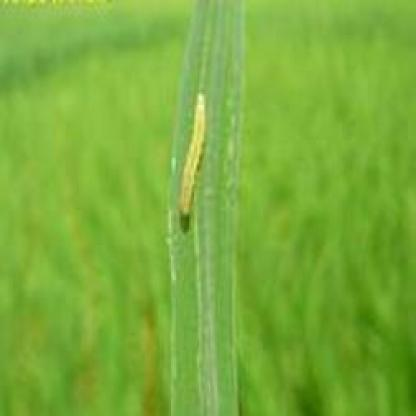leaf-folder: (168, 84, 218, 236)
